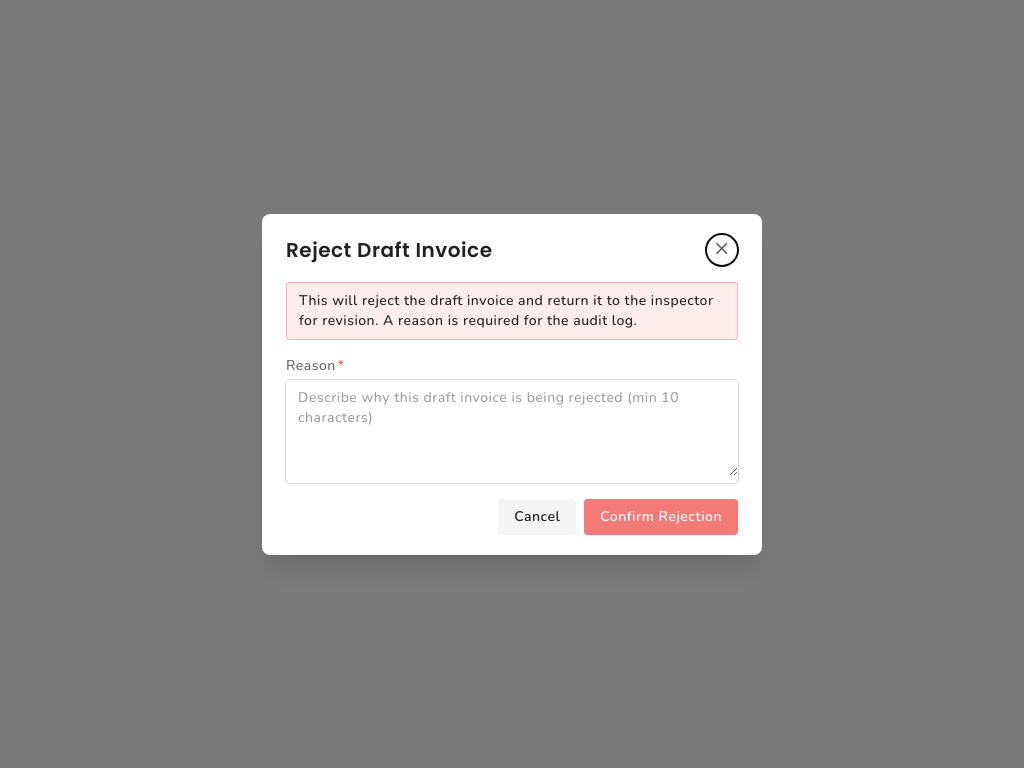
RejectDraftModal › shows validation error for empty reason
The width and height of the screenshot is (1024, 768).
Click the button "Confirm Rejection": (661, 516) [584, 498, 738, 534]
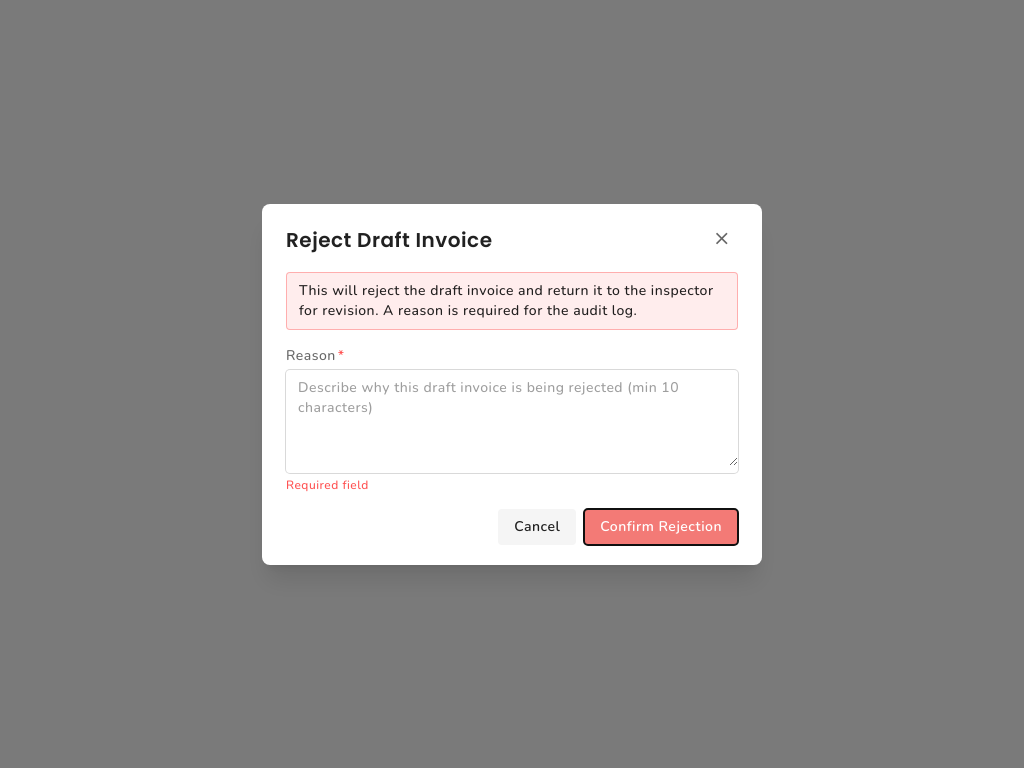
Now the text "Required field" is shown, box [286, 476, 369, 492]
